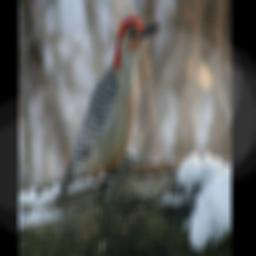Woodpecker: (55, 17, 162, 202)
